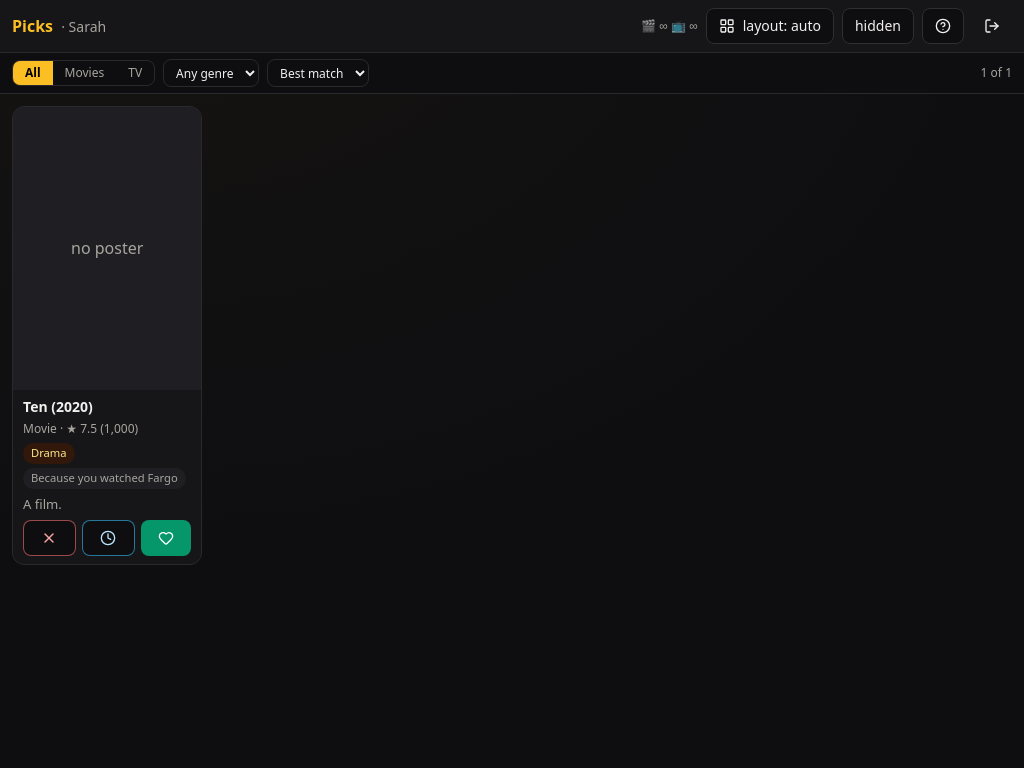
MePage confirmations › shows the reason a request could not be filed
The width and height of the screenshot is (1024, 768).
Expected: the text "Ten (2020)" is shown, x1=23 y1=397 x2=93 y2=416
Click the button named "Request: Ten" at (166, 538), box x1=141 y1=520 x2=191 y2=556
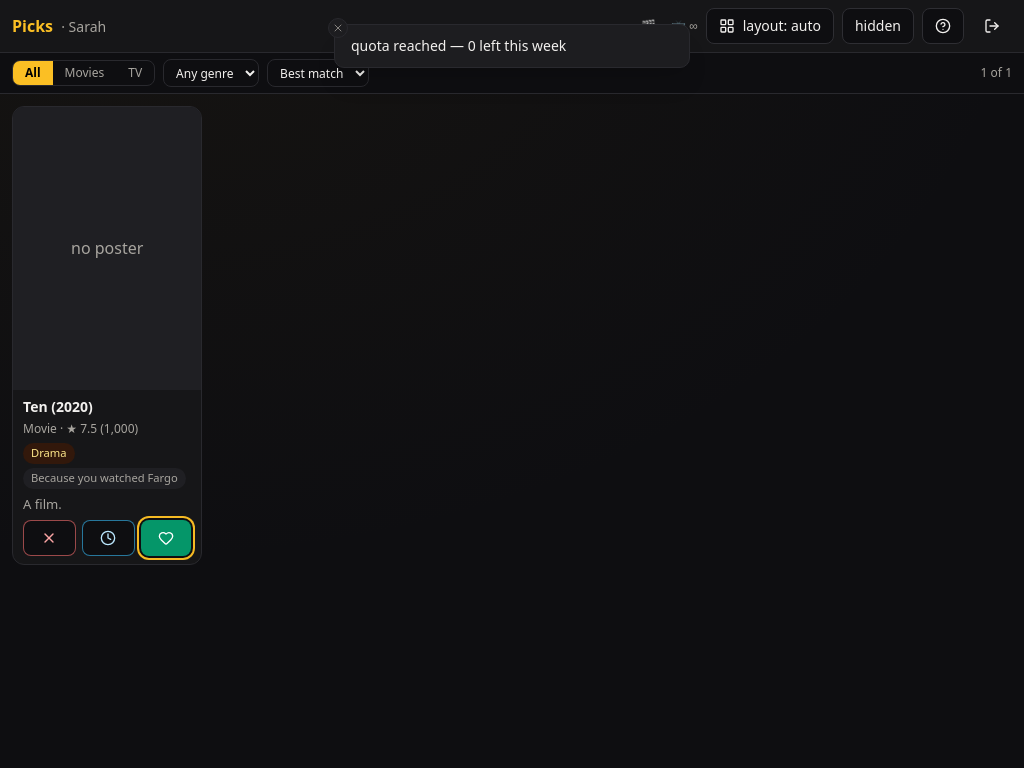
Expected: the text "Ten (2020)" is shown, x1=23 y1=397 x2=93 y2=416
Now the text "quota reached — 0 left this week" is shown, box x1=351 y1=37 x2=566 y2=54
